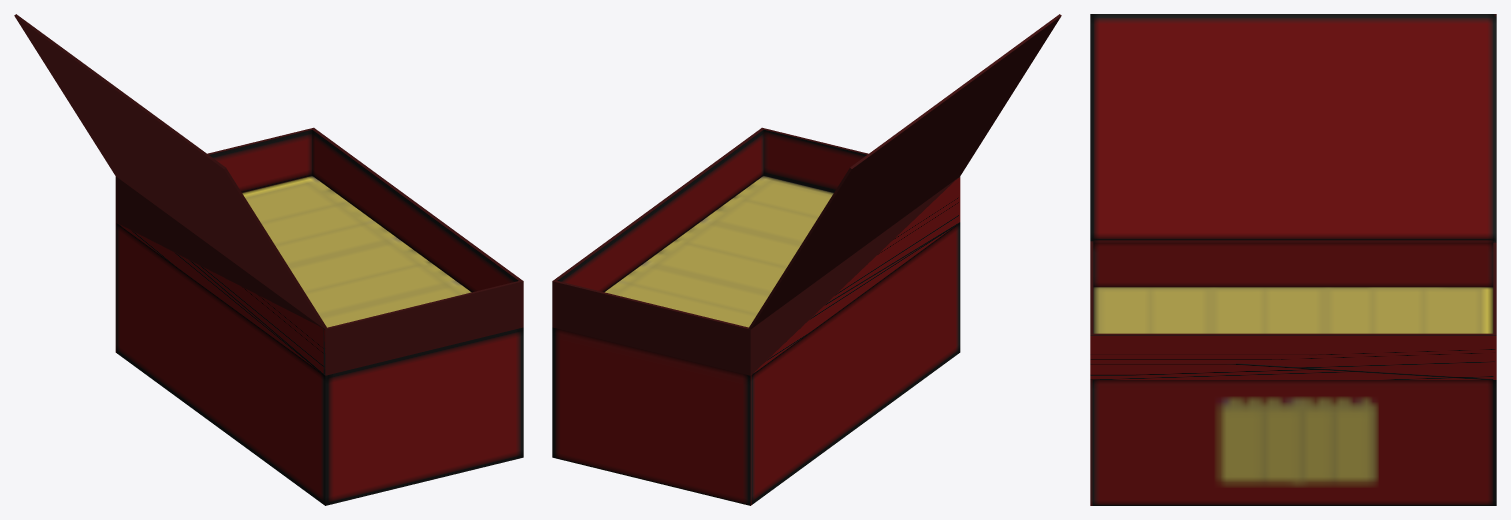
Rendered from ammoBox.fbx.
3 views of the same model, side by side, from view 1: azimuth 30°, elevation 25°; view 2: azimuth 150°, elevation 25°; view 3: azimuth 270°, elevation 25° (orthographic). The views are drawn at different scales.
Parts seen in each view (by area): view 1: Cube; view 2: Cube; view 3: Cube.
Boxes of the visible parts, left/top/right/bottom form: Cube: left=14, top=14, right=523, bottom=505; Cube: left=552, top=14, right=1061, bottom=505; Cube: left=1090, top=14, right=1496, bottom=505.
Size of the model in its own units: 356 by 411 by 431.
